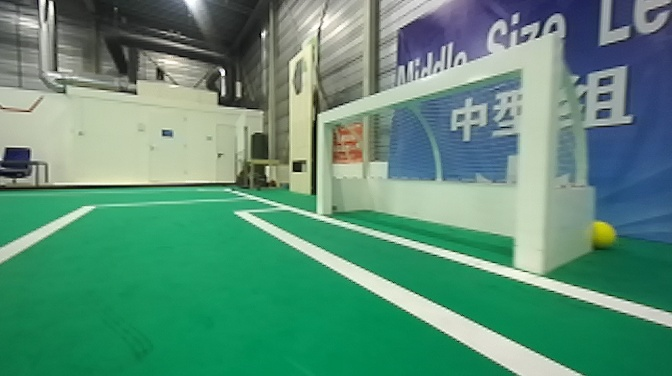ball: (584, 209, 621, 258)
goalpost: (511, 33, 559, 280), (308, 105, 340, 218)
